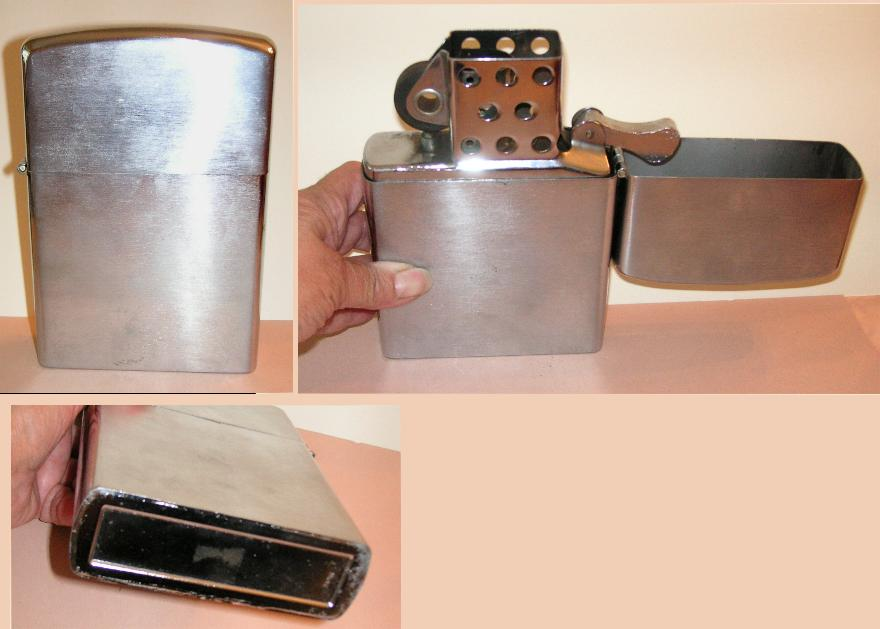Nonrec_Other: (336, 16, 869, 359), (13, 19, 267, 373), (28, 381, 393, 601)
